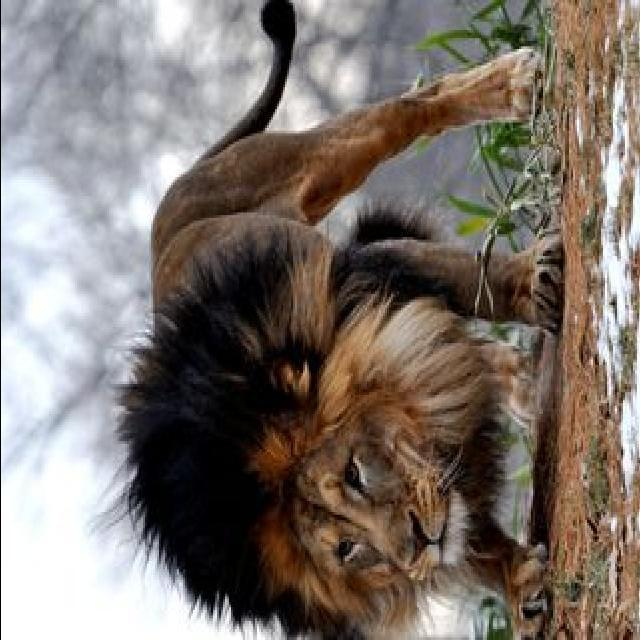lions: (37, 0, 640, 640)
